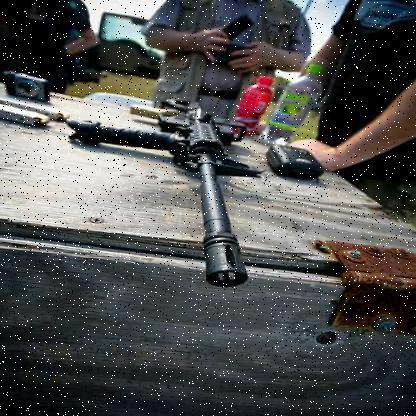rifle: (60, 73, 336, 316)
